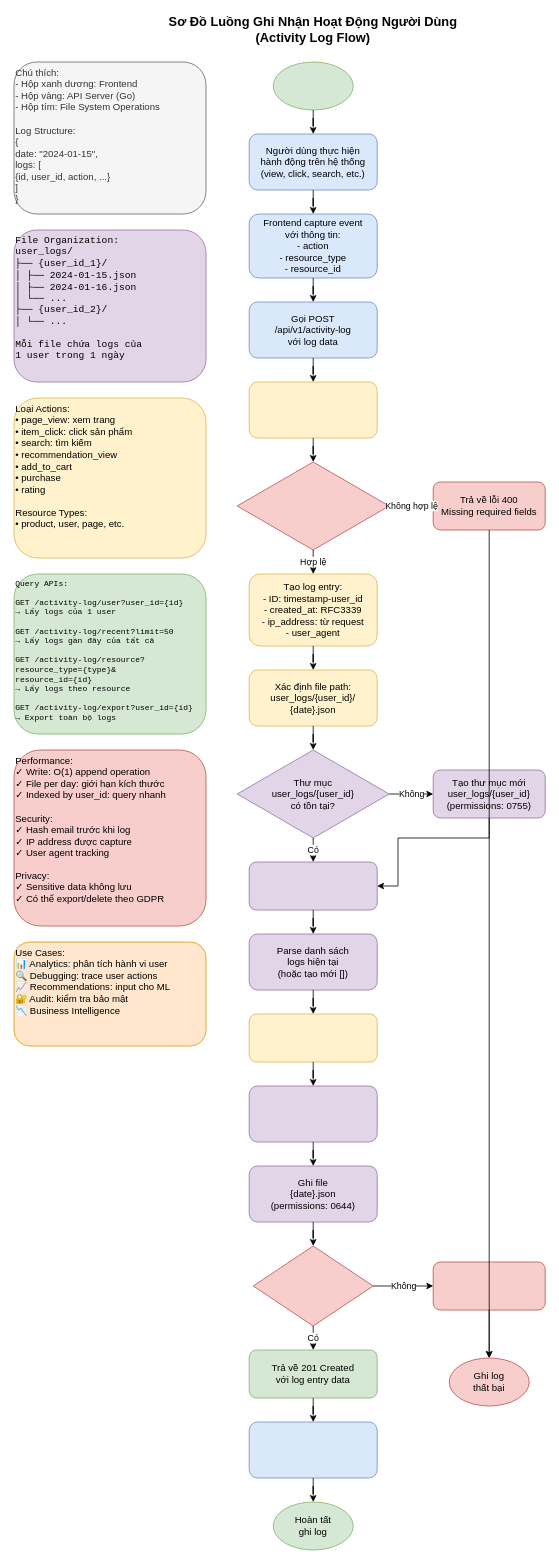
Image size: 559x1564. Some labels were removed from this diagram. Each missing label, with the box of its shape:
API Server (Go) CreateActivityLog nhận request: (248, 381, 377, 438)
Append log entry mới vào danh sách logs: (248, 1013, 377, 1062)
Bắt đầu: (272, 61, 353, 110)
Frontend nhận response và cập nhật UI (nếu cần): (248, 1421, 377, 1478)
Ghi file thành công?: (252, 1245, 373, 1326)
Serialize thành JSON với format: {date, logs: [...]}: (248, 1085, 377, 1142)
Trả về lỗi 500 Failed to write log file: (432, 1261, 545, 1310)
Validate dữ liệu: - user_id required? - user_email required? - action required?: (236, 461, 389, 550)
Đọc file JSON {date}.json (nếu có): (248, 861, 377, 910)
